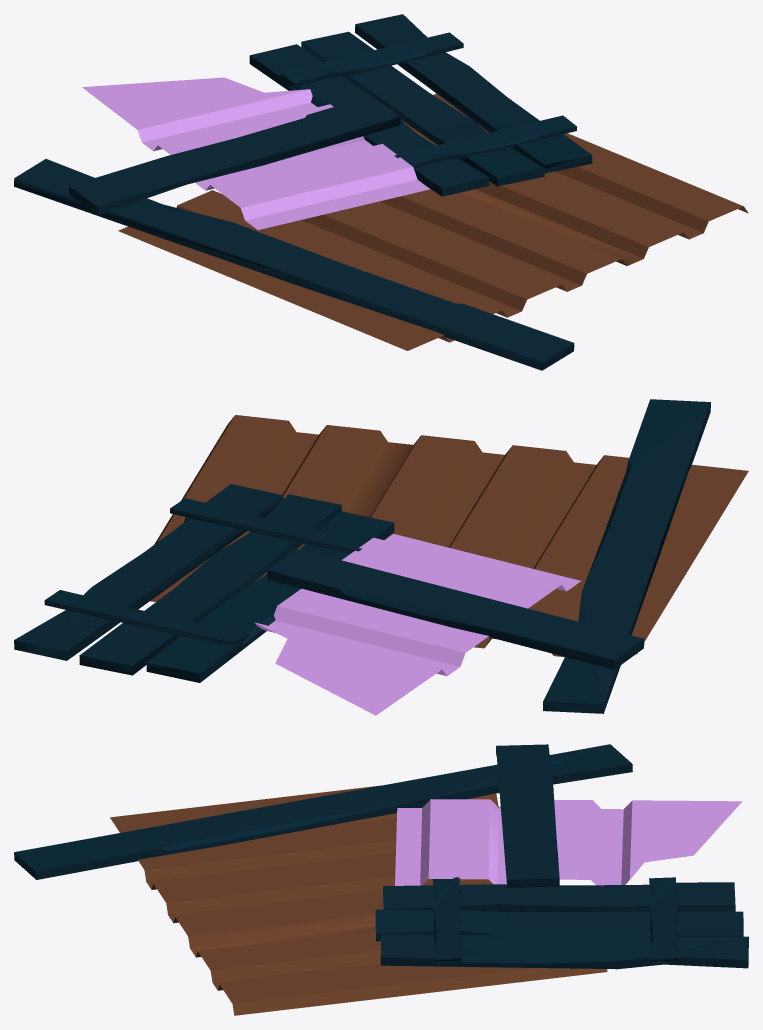
The model's file is Debris_Pile.fbx.
The picture shows the model from 3 angles, top to bottom: view 1: azimuth 30°, elevation 25°; view 2: azimuth 150°, elevation 25°; view 3: azimuth 270°, elevation 25°; orthographic projection. The views are drawn at different scales.
Parts seen in each view (by area): view 1: Debris_Pile; view 2: Debris_Pile; view 3: Debris_Pile.
Boxes of the visible parts, <box> form: Debris_Pile: <box>14,14,748,370</box>; Debris_Pile: <box>14,399,748,715</box>; Debris_Pile: <box>14,744,748,1015</box>.
Size of the model in its own units: 2.12 by 0.1635 by 2.63.
